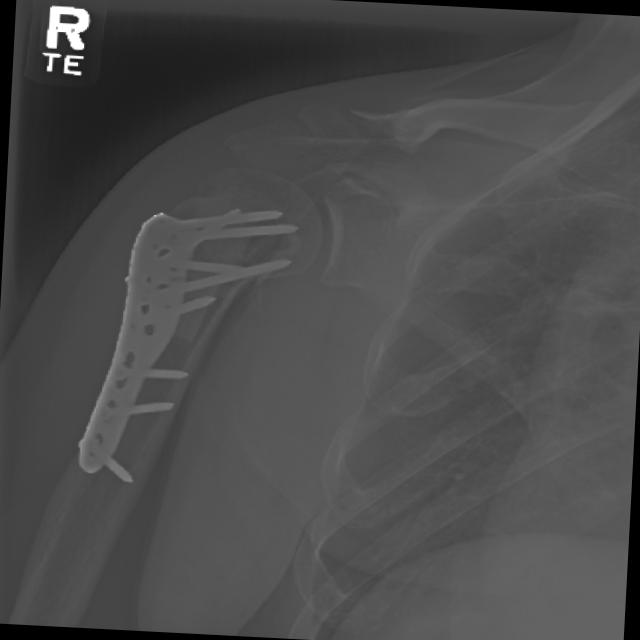shoulder fracture: (166, 258, 260, 379)
